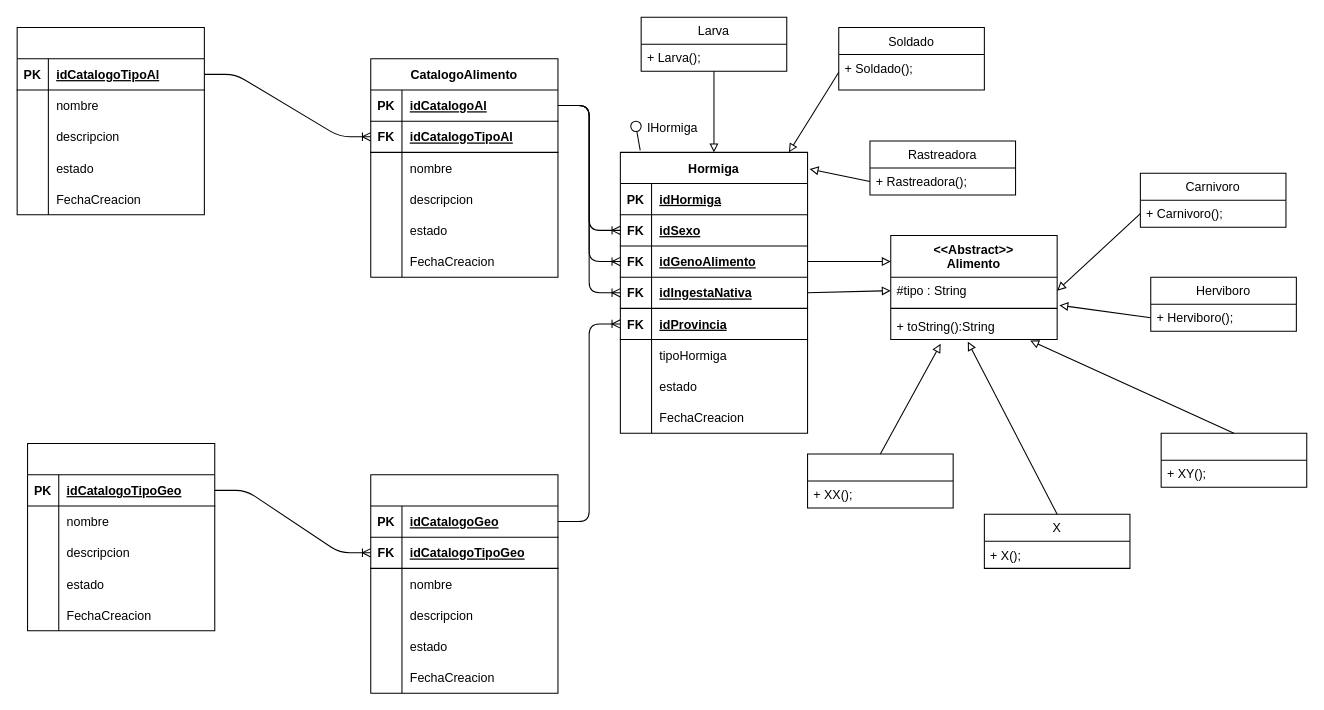
Some shapes in this 1324 by 710 pixel diagram are drawn without their labels. The box of each missing label's shape, as (x1, y1, x2, y2) in pixels:
CatalogoGeografia: (370, 474, 558, 693)
CatalogoTipoAlimento: (16, 27, 204, 215)
CatalogoTipoGeografia: (27, 443, 215, 631)
XX: (807, 453, 953, 508)
XY: (1160, 432, 1307, 487)
